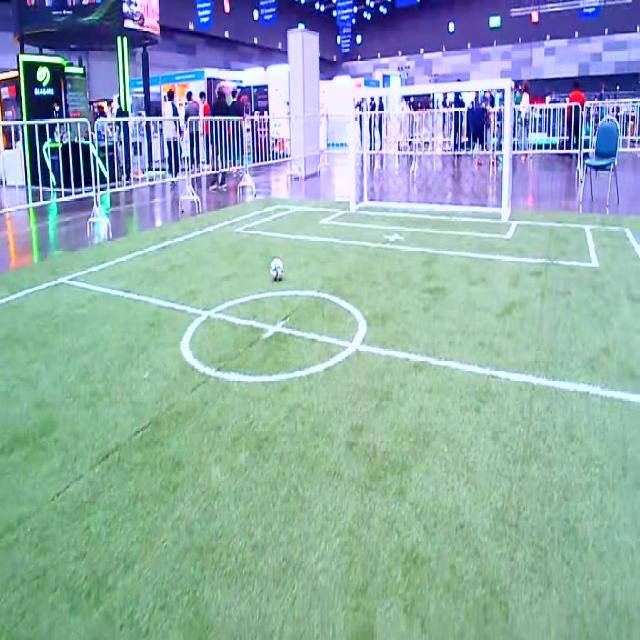ball: (270, 258, 283, 280)
